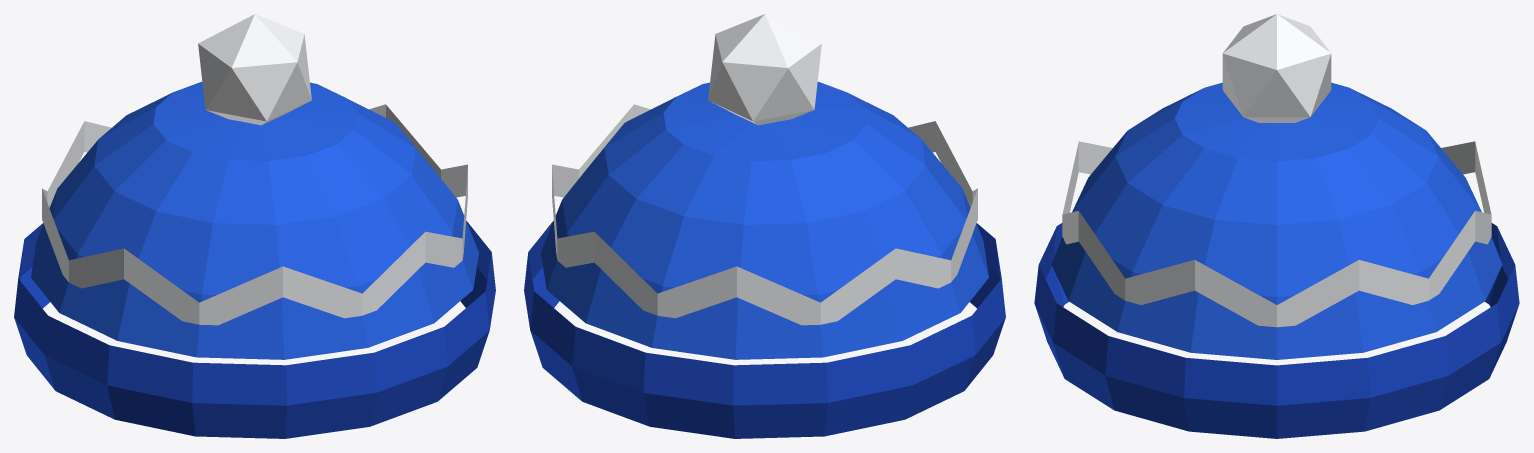
File: hat_09_winter_pompom.glb
3 renders of one model, left to right at view 1: azimuth 30°, elevation 25°; view 2: azimuth 150°, elevation 25°; view 3: azimuth 270°, elevation 25°, orthographic.
Parts seen in each view (by area): view 1: Hat09_Crown, Hat09_Cuff, Hat09_Chevron, Hat09_Pompom; view 2: Hat09_Crown, Hat09_Cuff, Hat09_Chevron, Hat09_Pompom; view 3: Hat09_Crown, Hat09_Cuff, Hat09_Chevron, Hat09_Pompom.
Boxes of the visible parts, x1,y1,x2,y2 form: Hat09_Crown: [31, 81, 478, 359]; Hat09_Cuff: [14, 221, 495, 438]; Hat09_Chevron: [42, 104, 467, 325]; Hat09_Pompom: [198, 14, 311, 125]; Hat09_Crown: [541, 81, 988, 359]; Hat09_Cuff: [524, 221, 1005, 438]; Hat09_Chevron: [552, 104, 977, 325]; Hat09_Pompom: [708, 14, 821, 125]; Hat09_Crown: [1051, 82, 1502, 359]; Hat09_Cuff: [1034, 223, 1519, 438]; Hat09_Chevron: [1062, 141, 1491, 327]; Hat09_Pompom: [1222, 14, 1331, 122].
Bounding box in the file's own units: 0.57 × 0.425 × 0.57.
